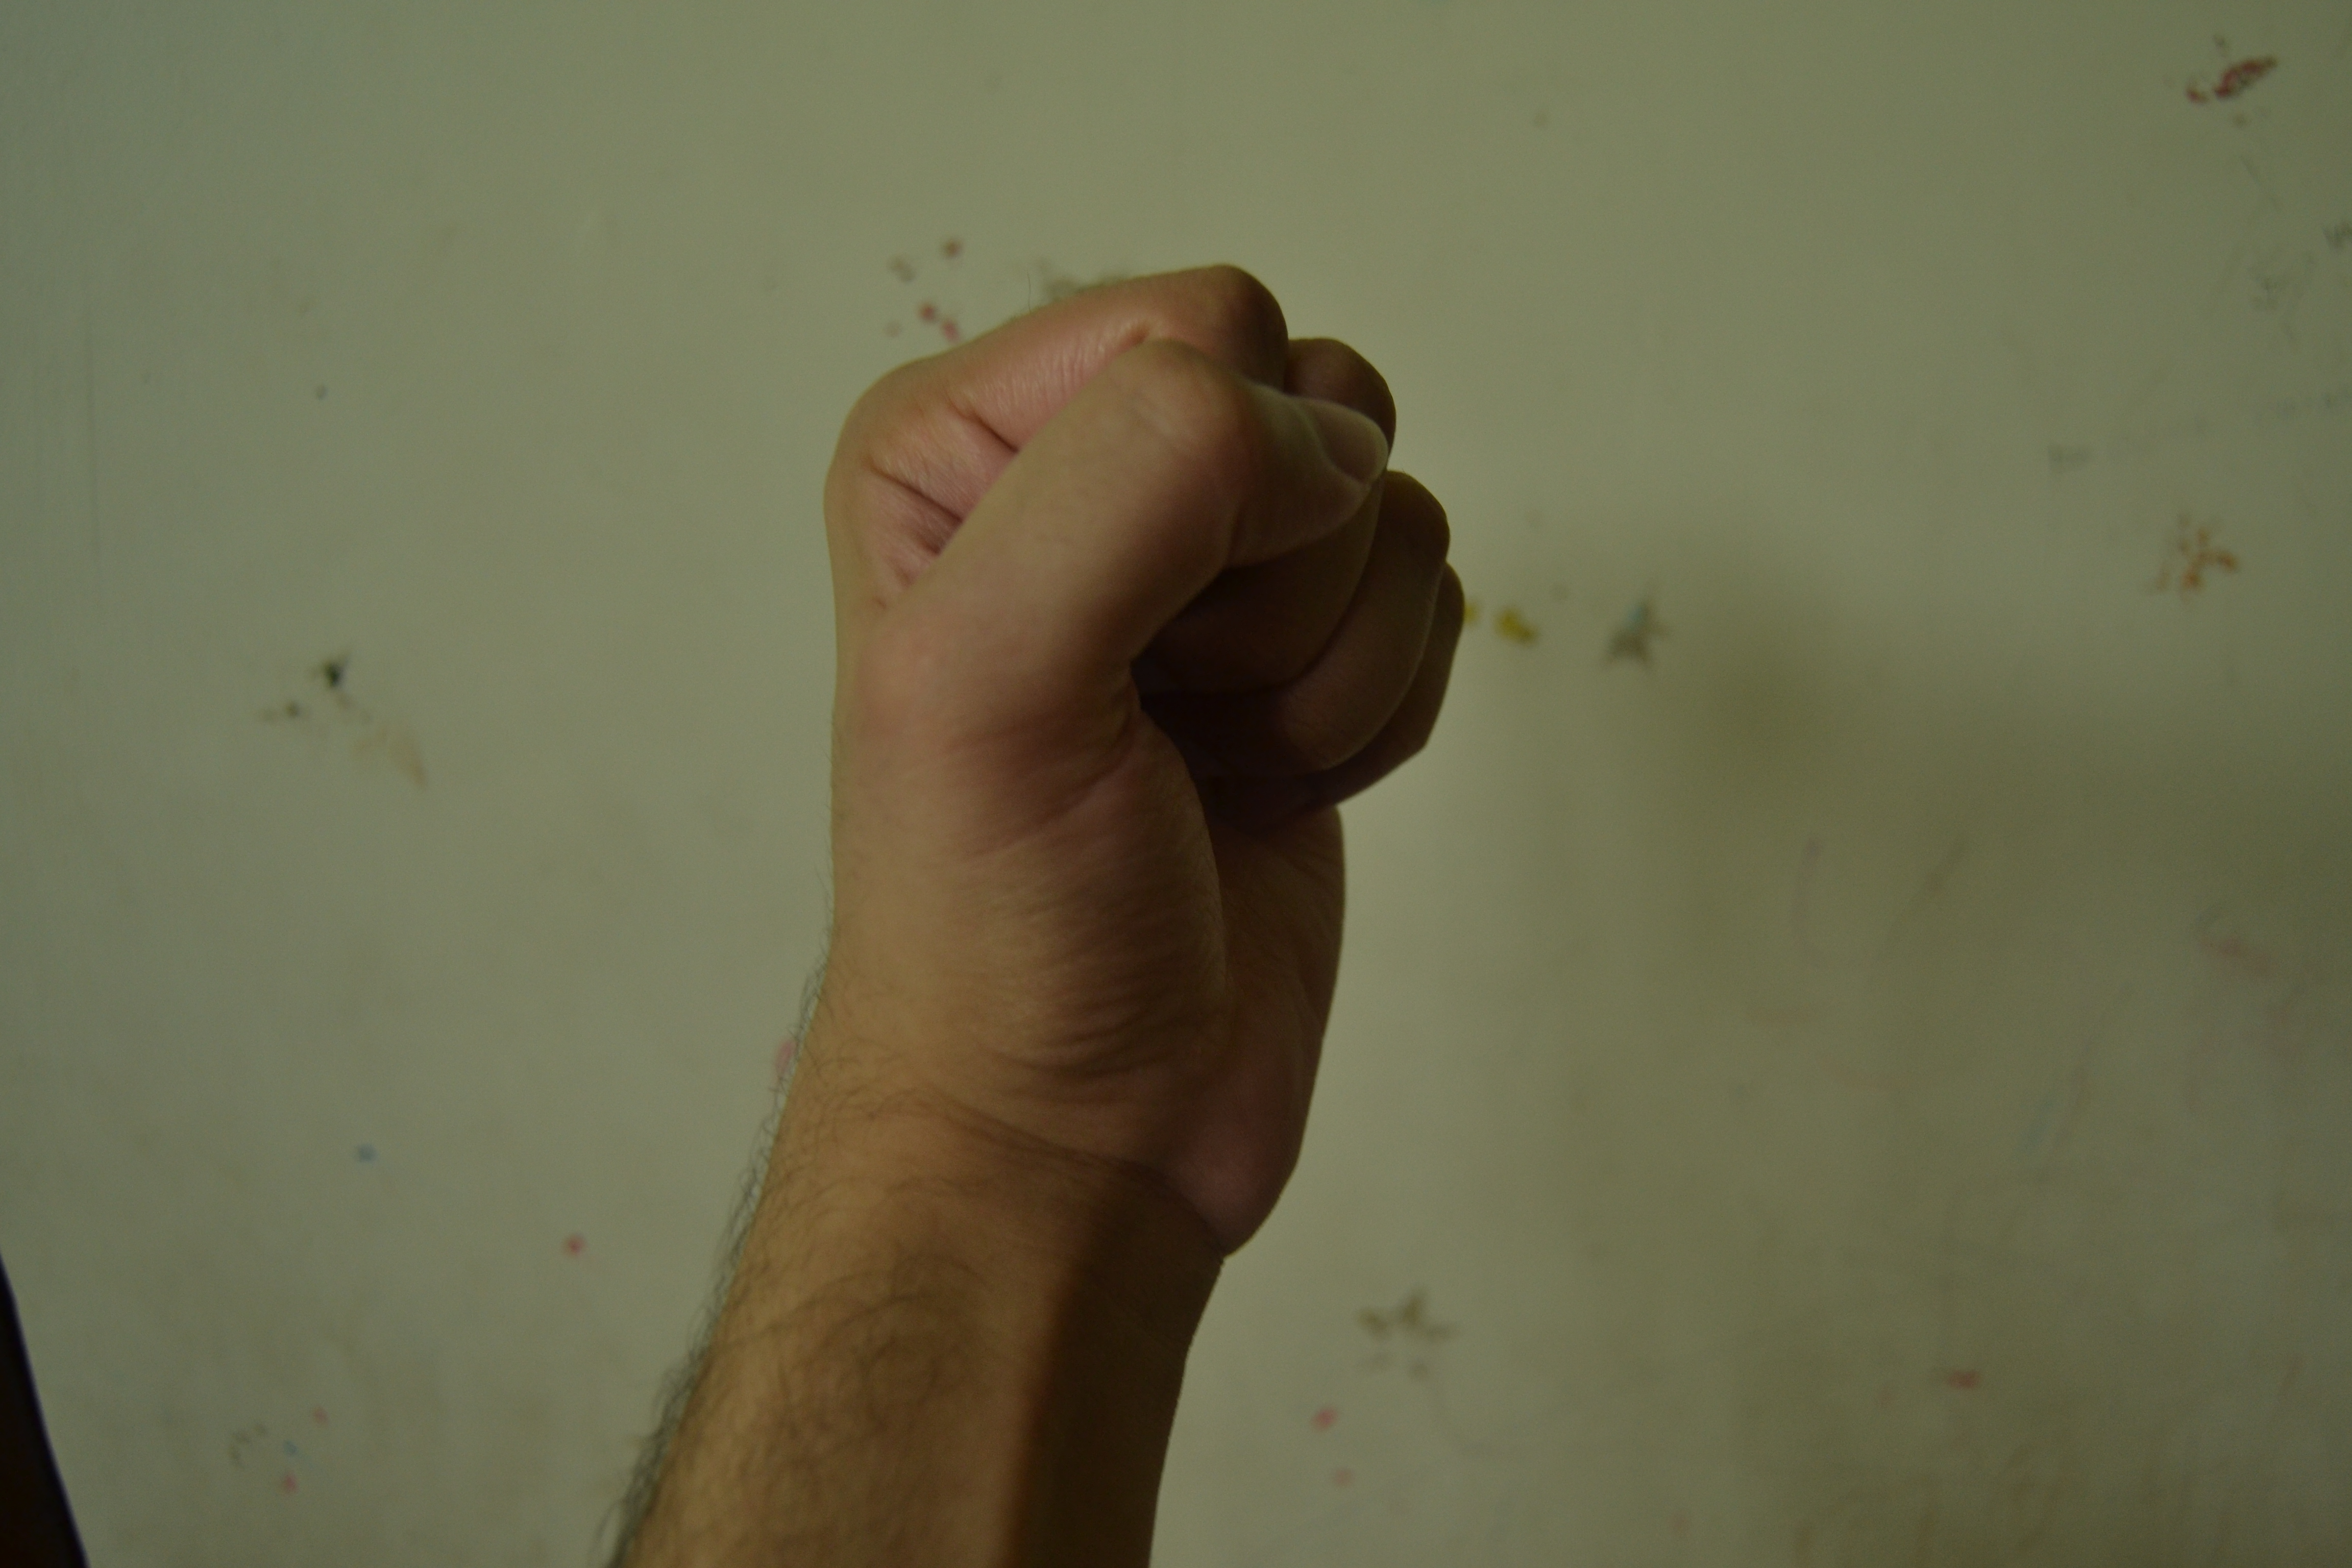click: (759, 189, 1514, 1358)
